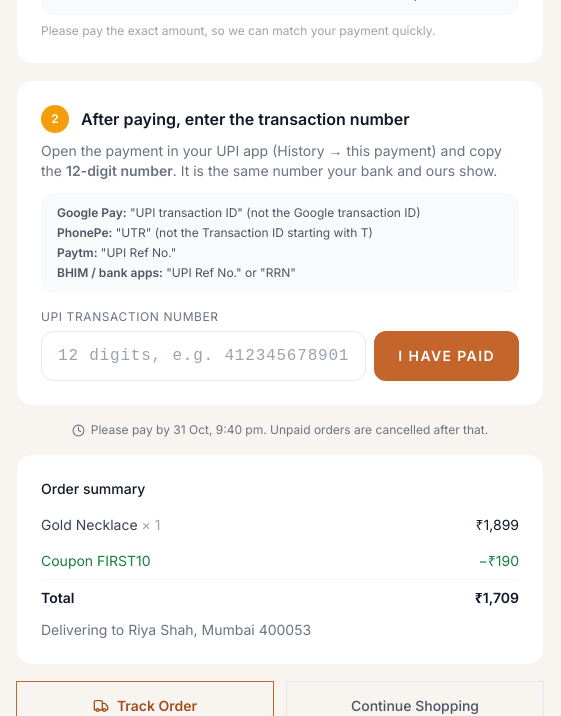
Test case: Payment page › after sending a 12-digit number it says the payment is being checked
(page scrolled)
Type "412345678901" into the field labelled "UPI transaction number".
click(204, 356); type("412345678901")  # box [41, 331, 366, 381]
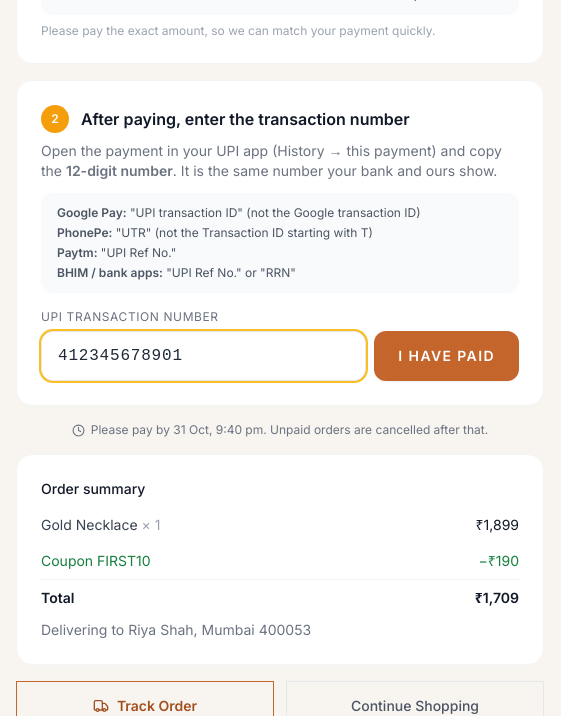
Click the button "I have paid".
click(447, 356)  # box [374, 331, 519, 381]
(page scrolled)
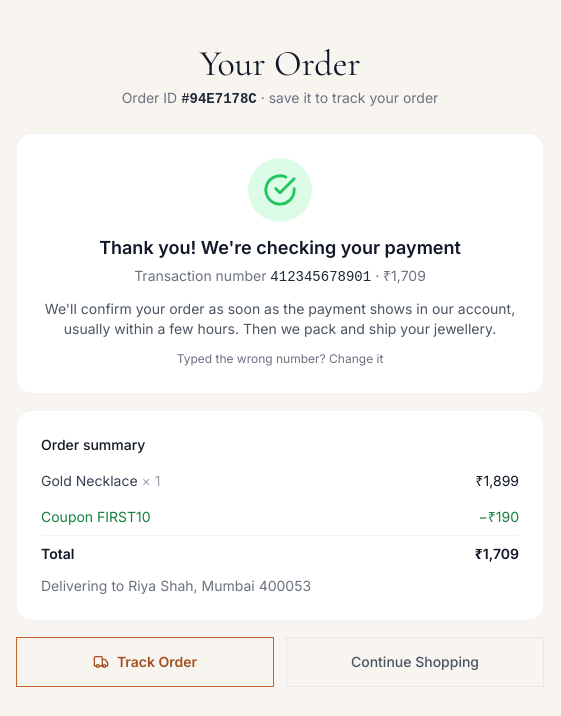
Now the heading "Thank you! We're checking your payment" is shown, box [99, 237, 461, 258]
